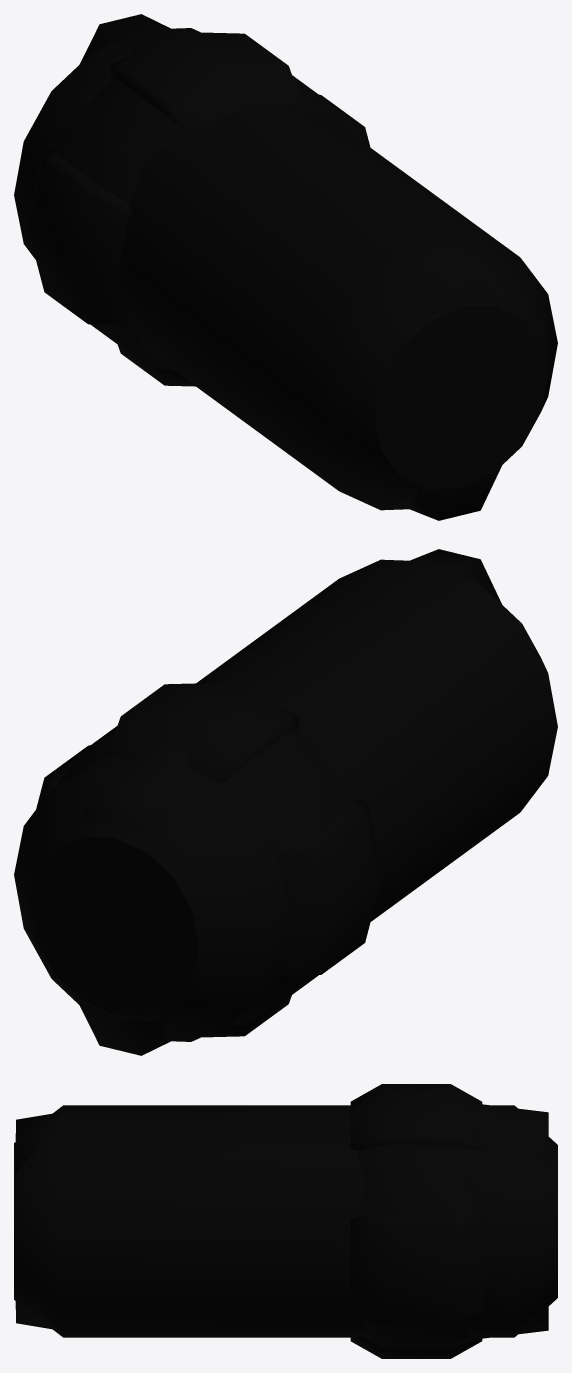
Rendered from hgn_su_tugs_03.glb.
3 renders of one model, top to bottom at view 1: azimuth 30°, elevation 25°; view 2: azimuth 150°, elevation 25°; view 3: azimuth 270°, elevation 25°, orthographic. The views are drawn at different scales.
Visible parts, largest first — view 1: loot_container_03; view 2: loot_container_03; view 3: loot_container_03.
Part boxes in pixels (x1,y1,x2,y2): loot_container_03: (14, 14, 557, 520); loot_container_03: (14, 549, 557, 1055); loot_container_03: (14, 1084, 557, 1358).
Size of what is drawn, in the model's own units: 0.5411 by 0.5411 by 1.05.
1 material, 1 textured.
